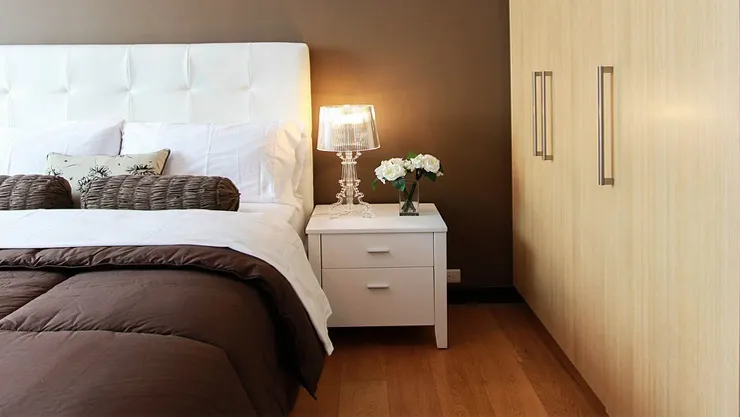lampu: (297, 90, 396, 219)
